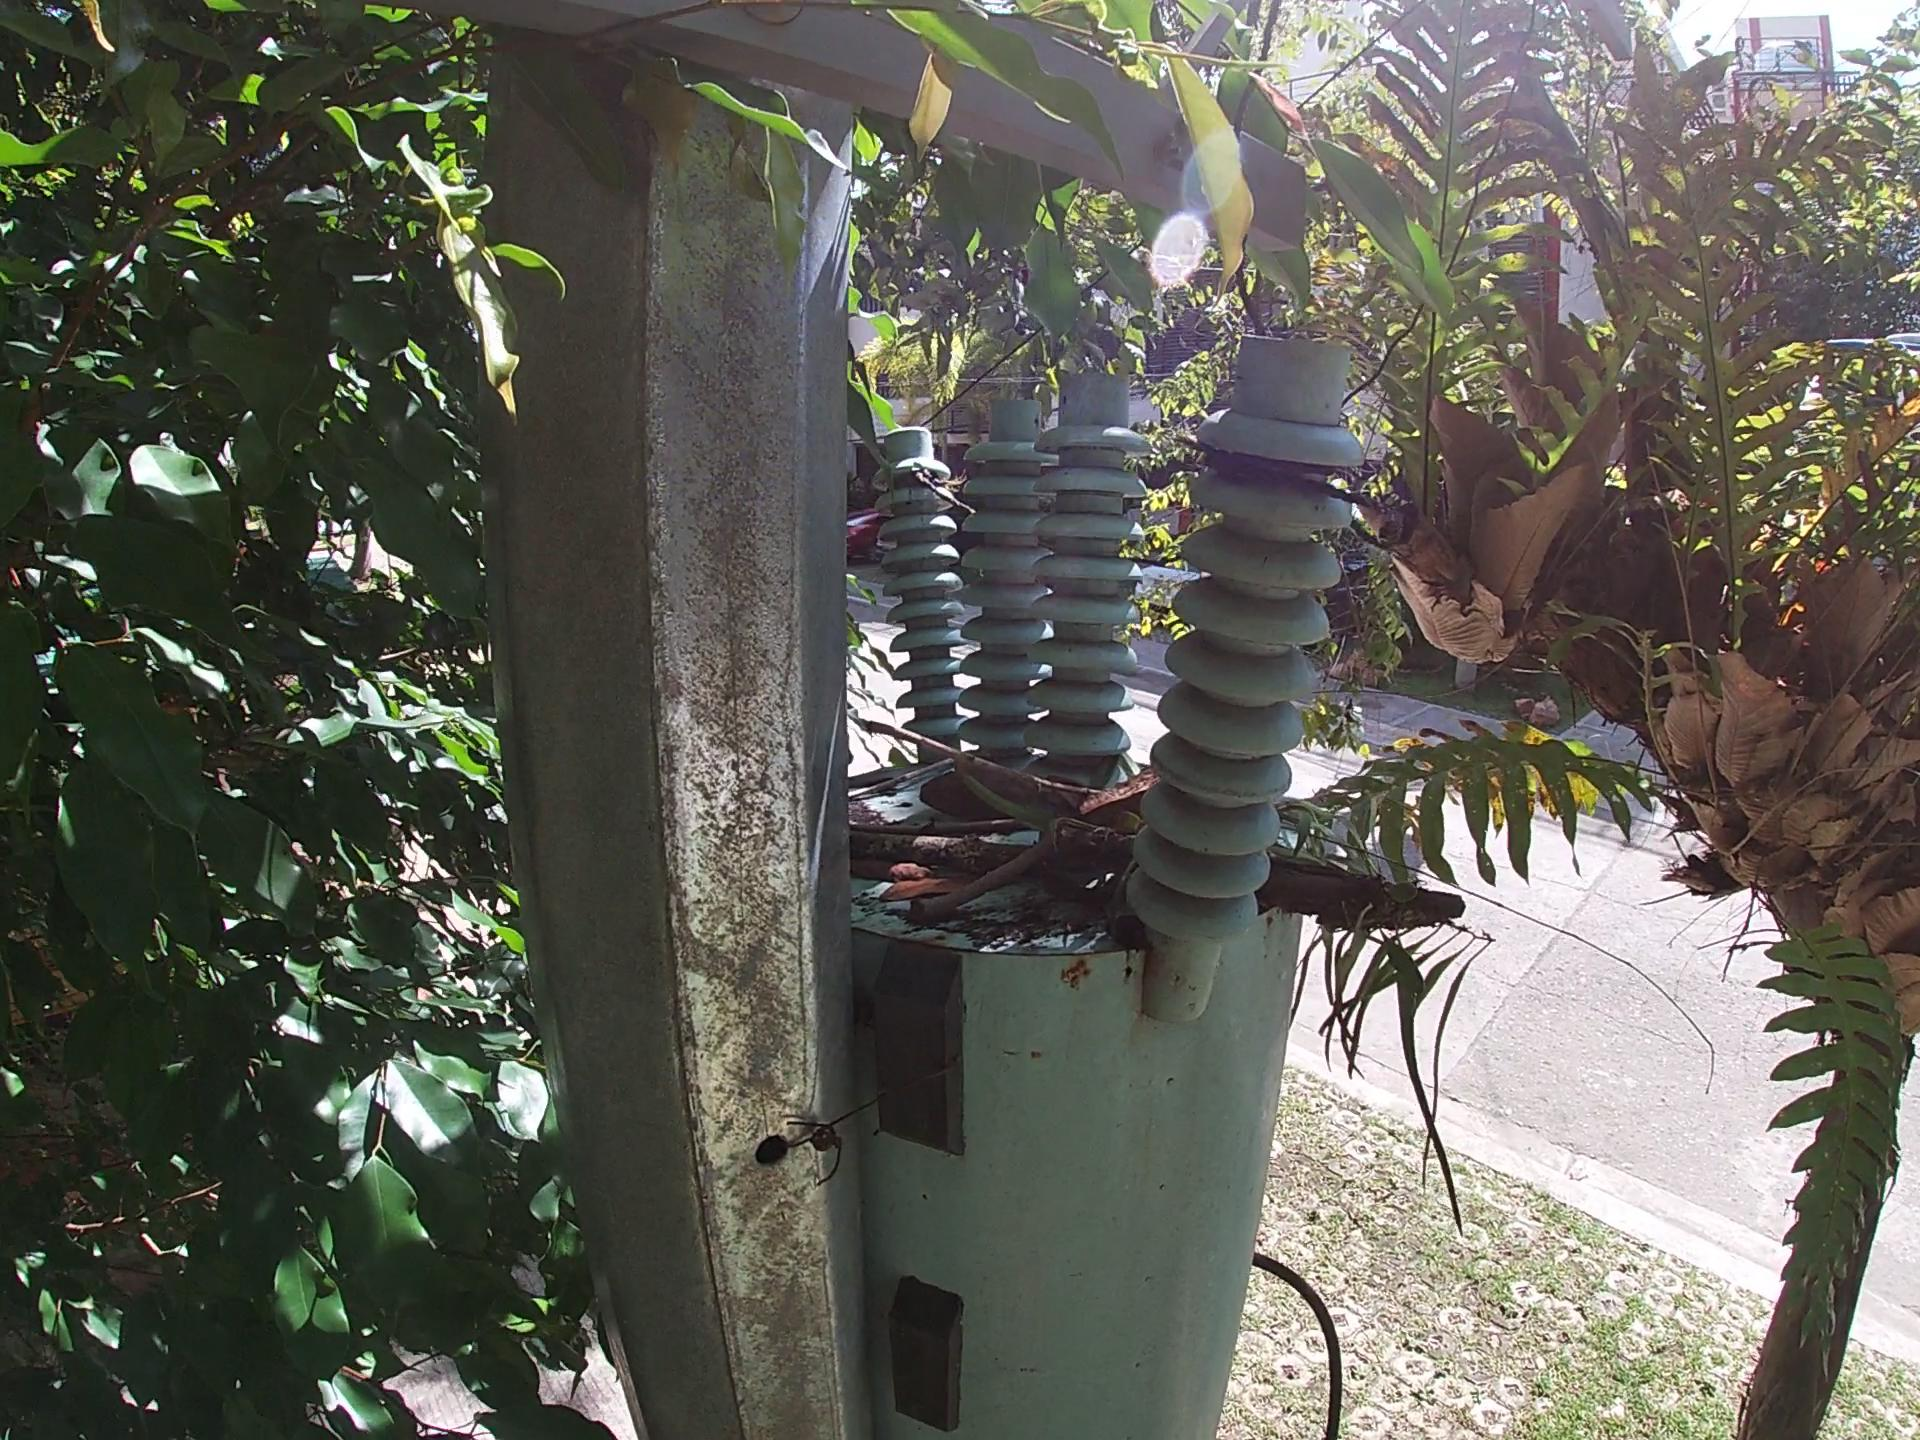branch with leaves: (848, 817, 1442, 953)
leaf: (835, 811, 958, 935)
mahogany fruit: (853, 711, 931, 771)
tree branch: (890, 729, 1686, 992), (863, 709, 1039, 809), (903, 833, 1048, 926), (850, 749, 924, 806)
